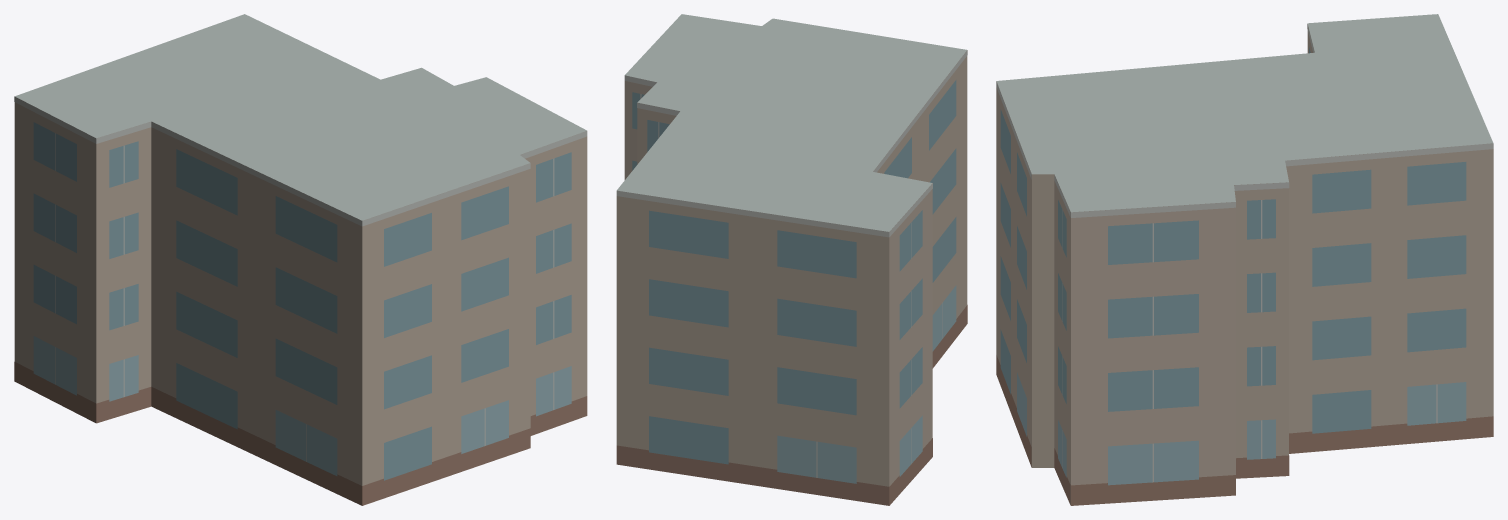
Rendered from survey-upis-32914988.glb.
The picture shows the model from 3 angles, left to right: view 1: azimuth 30°, elevation 25°; view 2: azimuth 150°, elevation 25°; view 3: azimuth 270°, elevation 25°; orthographic projection. The views are drawn at different scales.
Parts seen in each view (by area): view 1: survey-upis-32914988.tmp; view 2: survey-upis-32914988.tmp; view 3: survey-upis-32914988.tmp.
Boxes of the visible parts, left/top/right/bottom form: survey-upis-32914988.tmp: left=14, top=14, right=587, bottom=505; survey-upis-32914988.tmp: left=616, top=14, right=967, bottom=505; survey-upis-32914988.tmp: left=996, top=14, right=1493, bottom=505.
Bounding box in the file's own units: 17.68 × 12.2 × 18.73.
